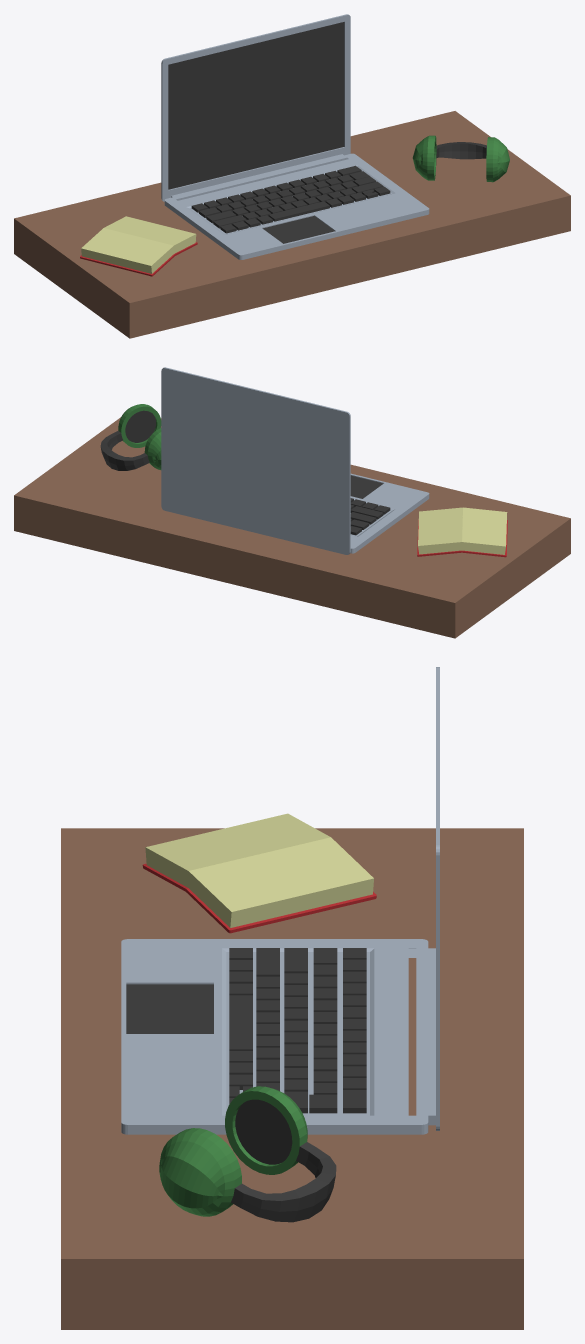
Rendered from lowpoly_desk.glb.
3 views of the same model, one above another, from view 1: azimuth 30°, elevation 25°; view 2: azimuth 150°, elevation 25°; view 3: azimuth 270°, elevation 25° (orthographic). The views are drawn at different scales.
Visible parts, largest first — view 1: Bottom.001; view 2: Bottom.001; view 3: Bottom.001.
Boxes of the visible parts, <box> form: Bottom.001: <box>14,14,570,338</box>; Bottom.001: <box>14,367,570,638</box>; Bottom.001: <box>61,667,523,1329</box>.
Size of the model in its own units: 12.68 by 4.92 by 5.76.
